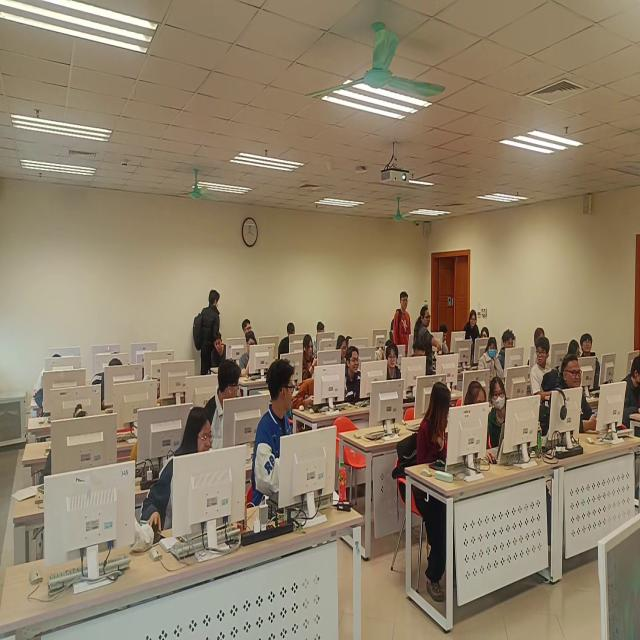raise_head: (550, 354, 598, 434), (581, 334, 602, 391), (479, 337, 504, 382), (346, 346, 363, 404), (386, 342, 402, 381), (533, 328, 547, 348), (242, 319, 253, 341)
sleep: (41, 405, 89, 485), (131, 408, 166, 464), (92, 360, 124, 416), (293, 377, 320, 412), (36, 354, 62, 390), (144, 377, 161, 407), (34, 388, 47, 422), (374, 340, 393, 361)
stand: (194, 290, 222, 376), (415, 305, 443, 376), (390, 292, 412, 357), (465, 309, 482, 354)
using_computer: (141, 408, 214, 539), (620, 357, 640, 431), (240, 331, 258, 378), (500, 330, 517, 371), (279, 324, 296, 362), (465, 381, 488, 405), (312, 323, 327, 358), (439, 325, 454, 355), (337, 335, 349, 364), (568, 340, 582, 359)
using_phone: (304, 336, 319, 381)
